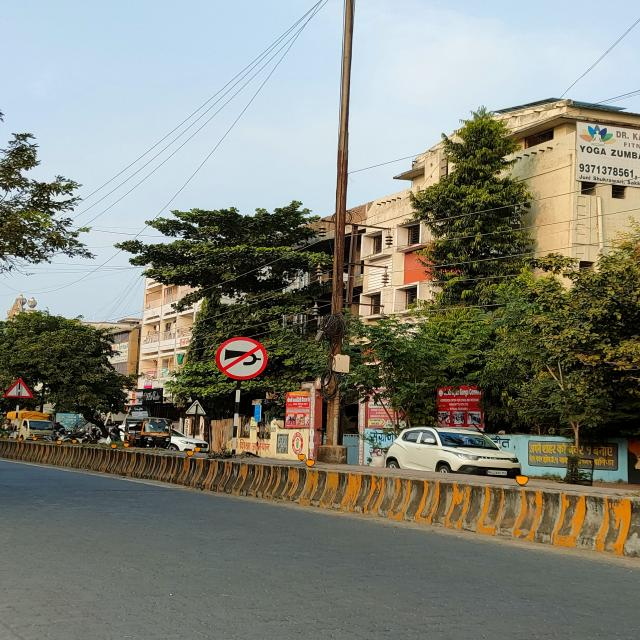HORN_PROHIBITED: (215, 338, 267, 380)
